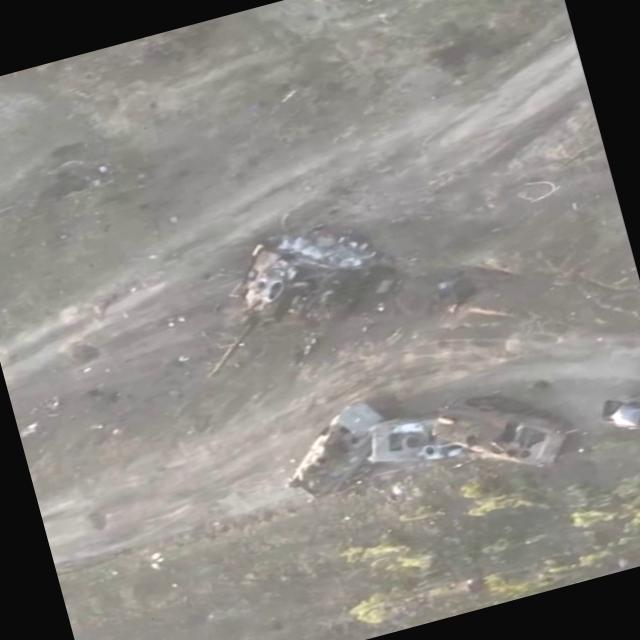AIFV: (271, 393, 403, 509)
APC: (361, 403, 465, 478)
Destroyed: (178, 211, 411, 382), (425, 374, 583, 494)
Vehicle: (596, 380, 640, 445)
